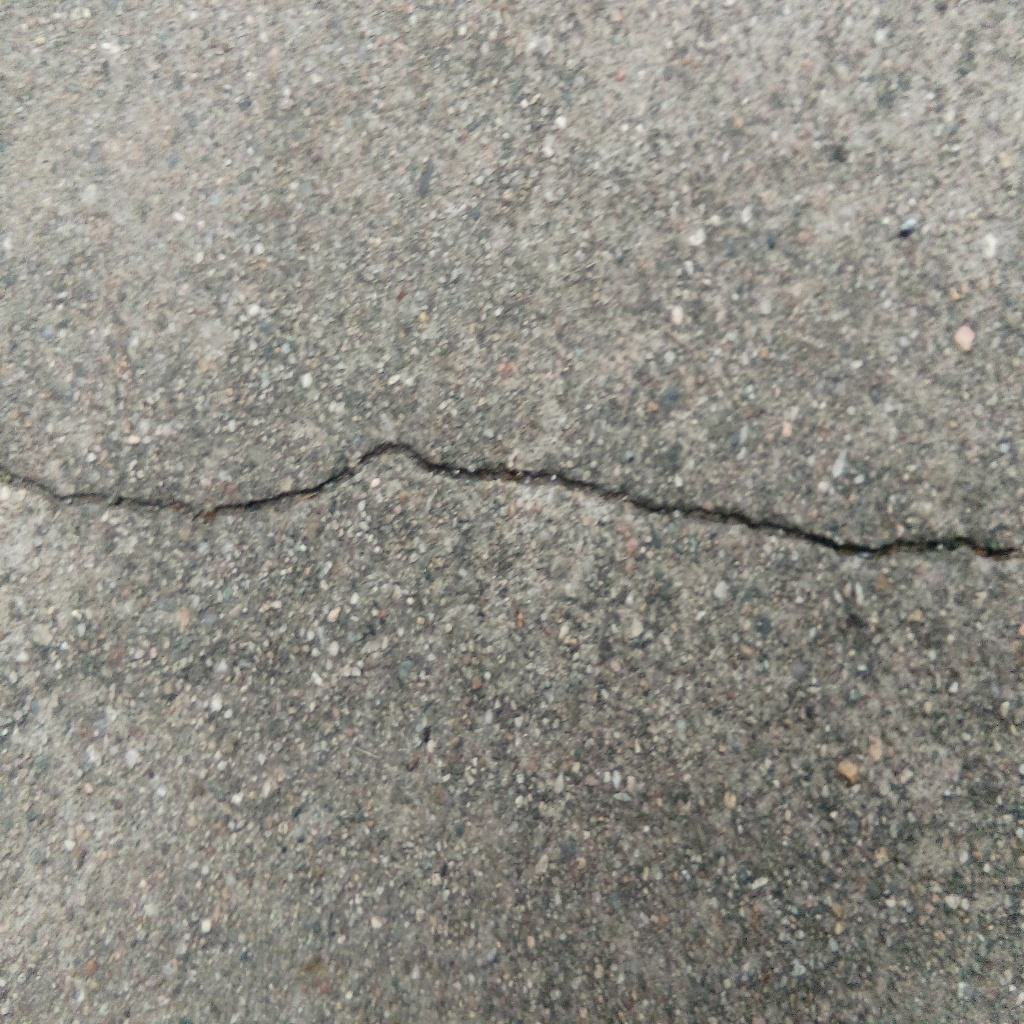Crack: (1, 437, 1024, 560)
